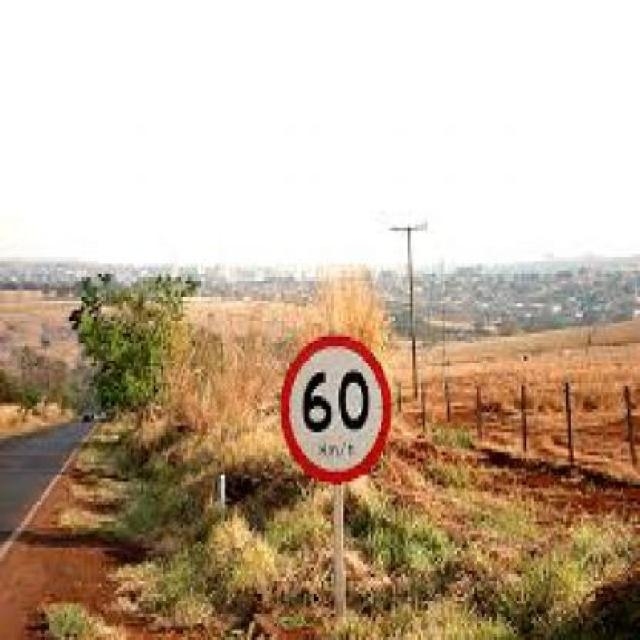forb_speed_over_60: (279, 330, 403, 492)
